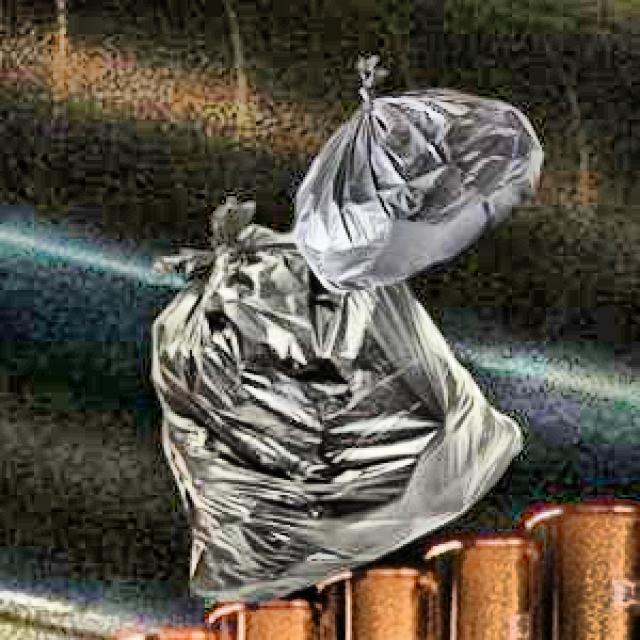Trashbag: (144, 188, 527, 609), (290, 47, 550, 296)
